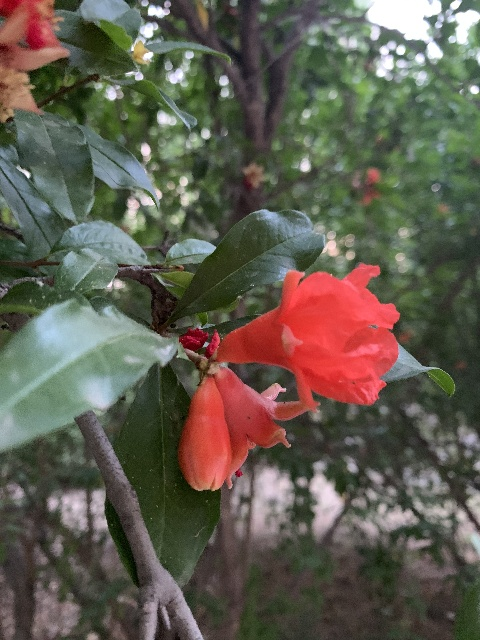bud: (177, 378, 231, 490)
early-fruit: (241, 161, 266, 190)
flower: (213, 264, 402, 412), (213, 365, 320, 480)
